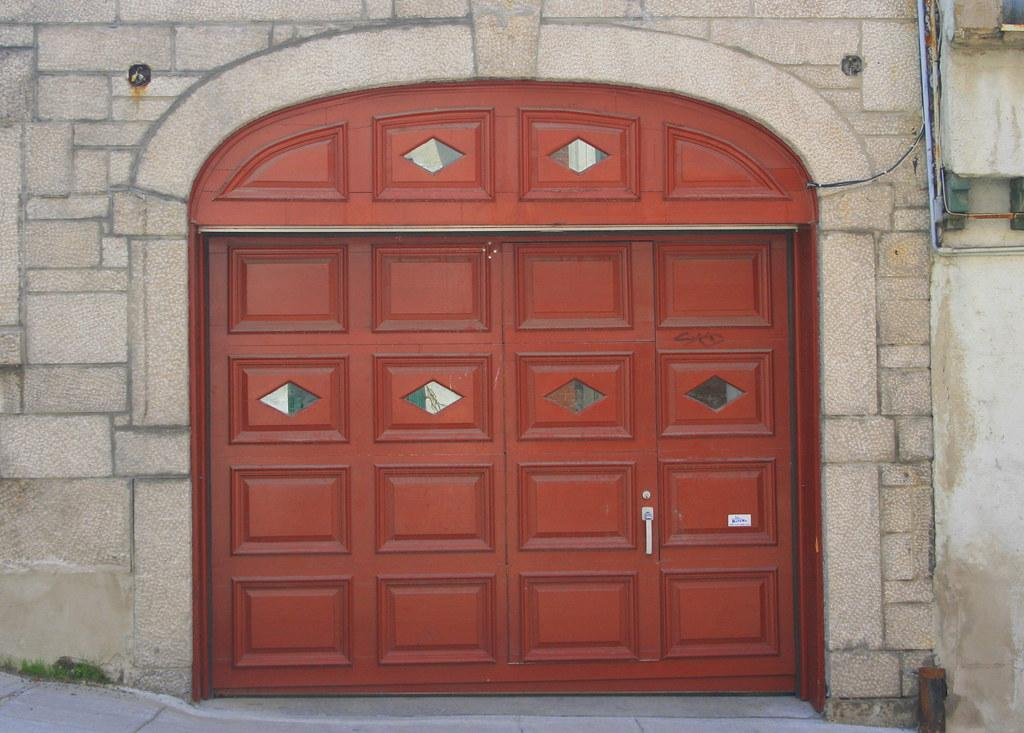door: (203, 227, 800, 698)
